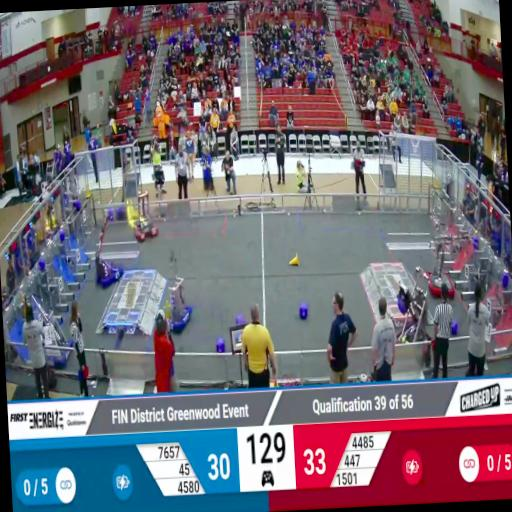robot: (392, 262, 440, 364), (30, 286, 74, 370), (158, 248, 196, 336), (90, 206, 126, 290), (424, 230, 460, 300), (130, 188, 158, 244)
